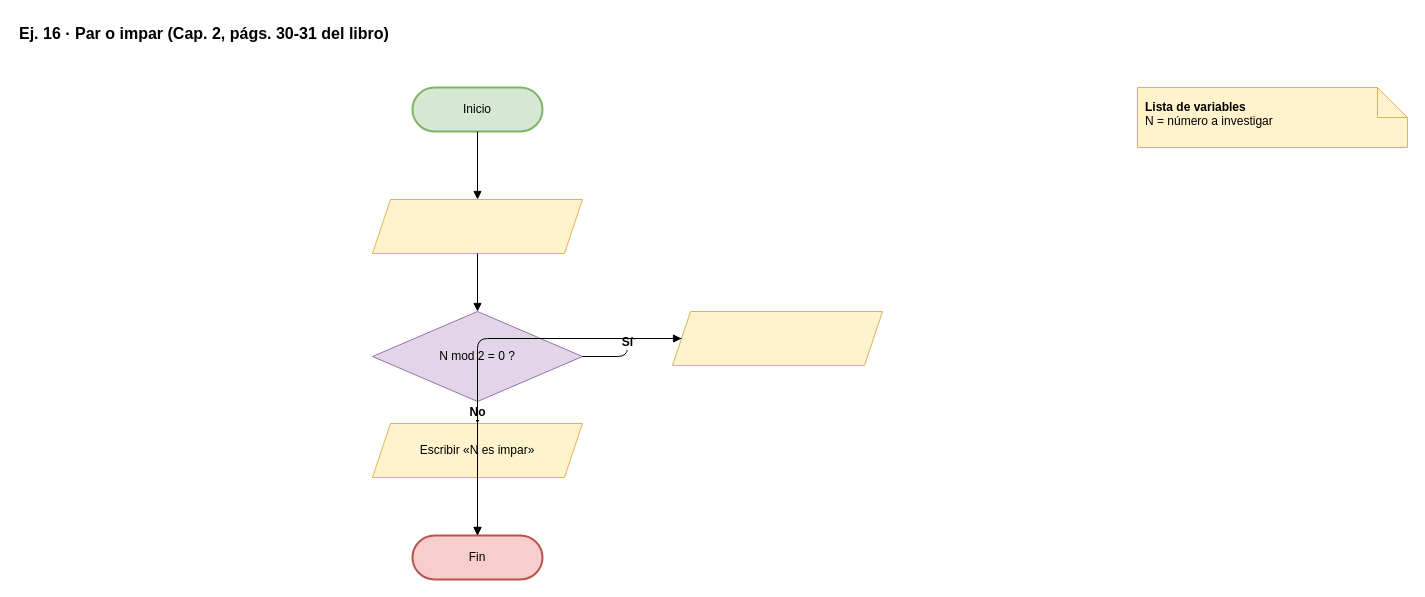
Image size: 1425x597. Some labels were removed from this diagram. Here are the shapes that lost their labels. From the top down, the centre of each, then its label:
(x=477, y=226): Leer N
(x=777, y=338): Escribir «N es par»
